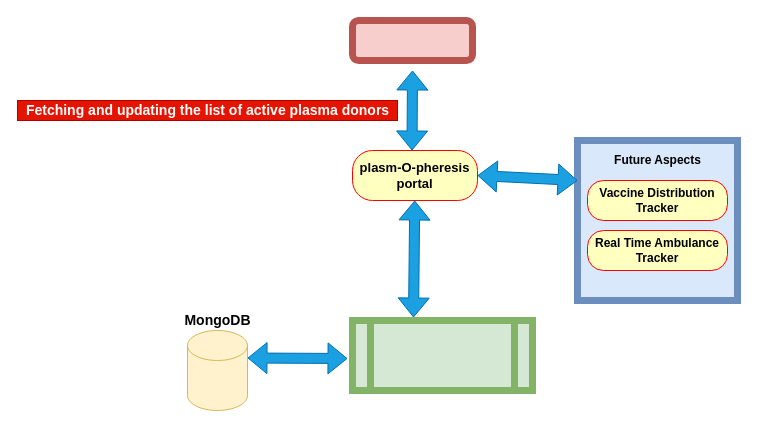
This 758x428 diagram has some shape labels left out. Each missing label, with the centre of its shape:
"Hospitals" goes at (x=412, y=40).
"Node.js API" goes at (x=442, y=355).
